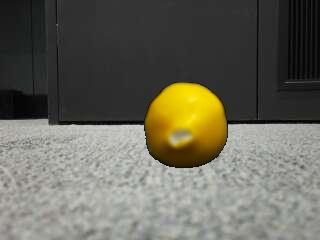lemon: (146, 85, 227, 169)
